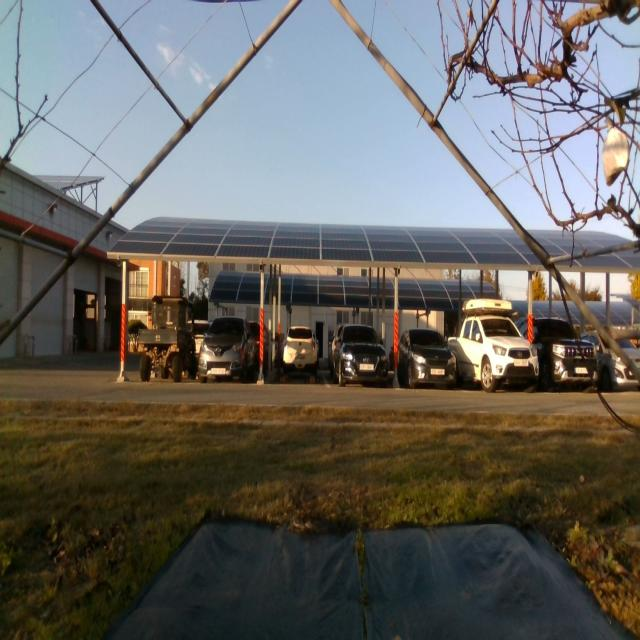pearbags: (602, 126, 629, 186)
